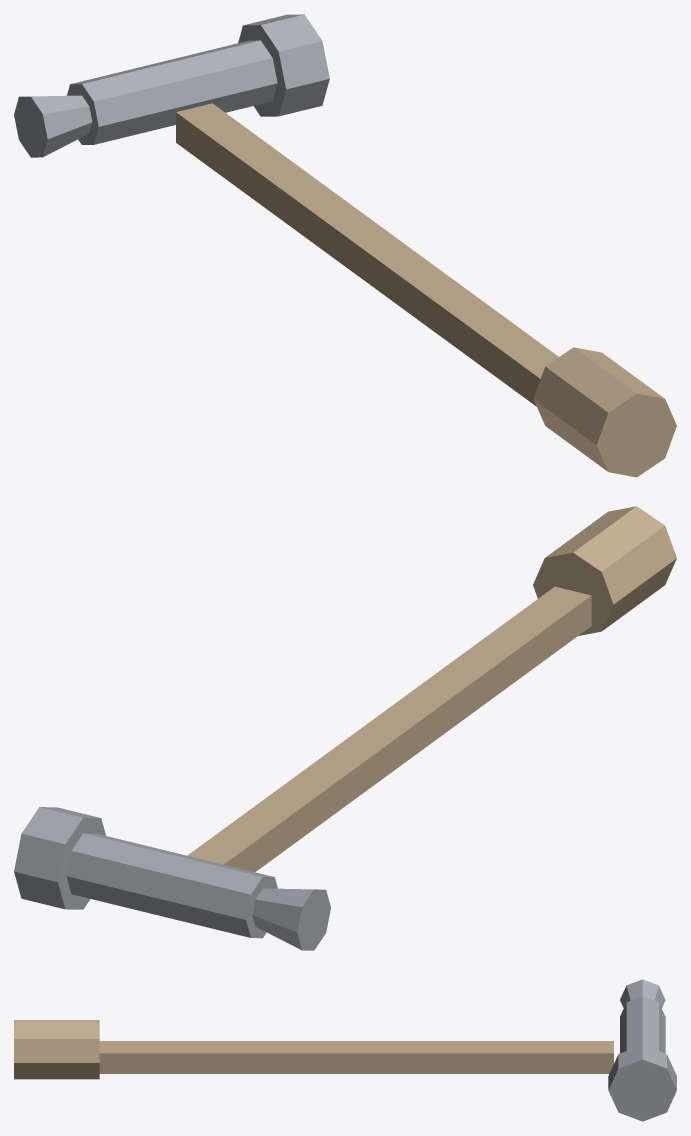
The model's file is prop-chasing-hammer-ss1.fbx.
The picture shows the model from 3 angles, top to bottom: view 1: azimuth 30°, elevation 25°; view 2: azimuth 150°, elevation 25°; view 3: azimuth 270°, elevation 25°; orthographic projection. The views are drawn at different scales.
Parts seen in each view (by area): view 1: prop-chasing-hammer-ss1; view 2: prop-chasing-hammer-ss1; view 3: prop-chasing-hammer-ss1.
Part boxes in pixels (bbox=[...]): prop-chasing-hammer-ss1: bbox=[14, 14, 676, 477]; prop-chasing-hammer-ss1: bbox=[14, 506, 676, 950]; prop-chasing-hammer-ss1: bbox=[14, 979, 676, 1121].
Size of the model in its own units: 7.5 by 2.4 by 23.2.
